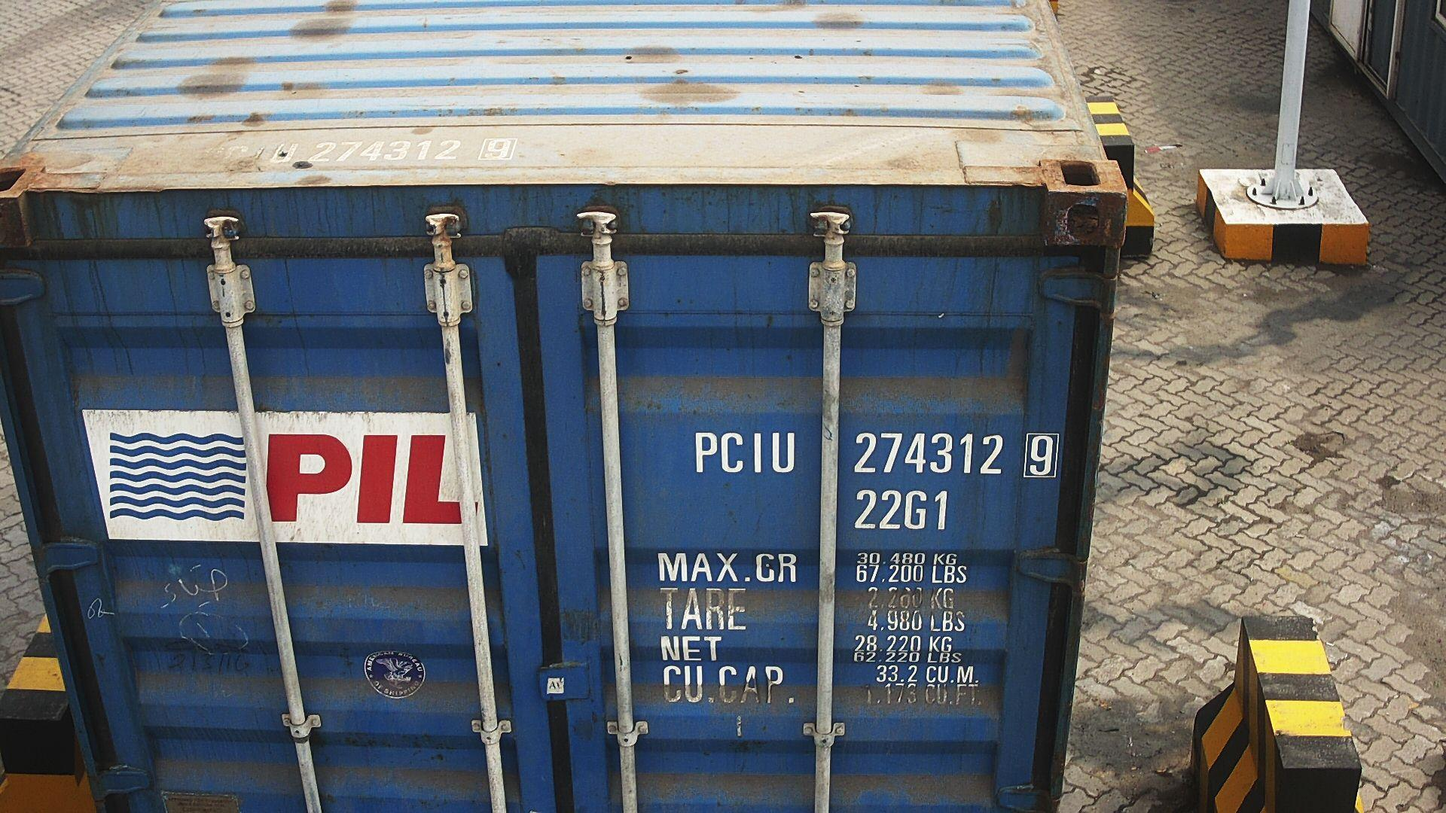container-numbers: (691, 427, 1064, 482), (193, 135, 524, 169), (850, 487, 954, 534)
